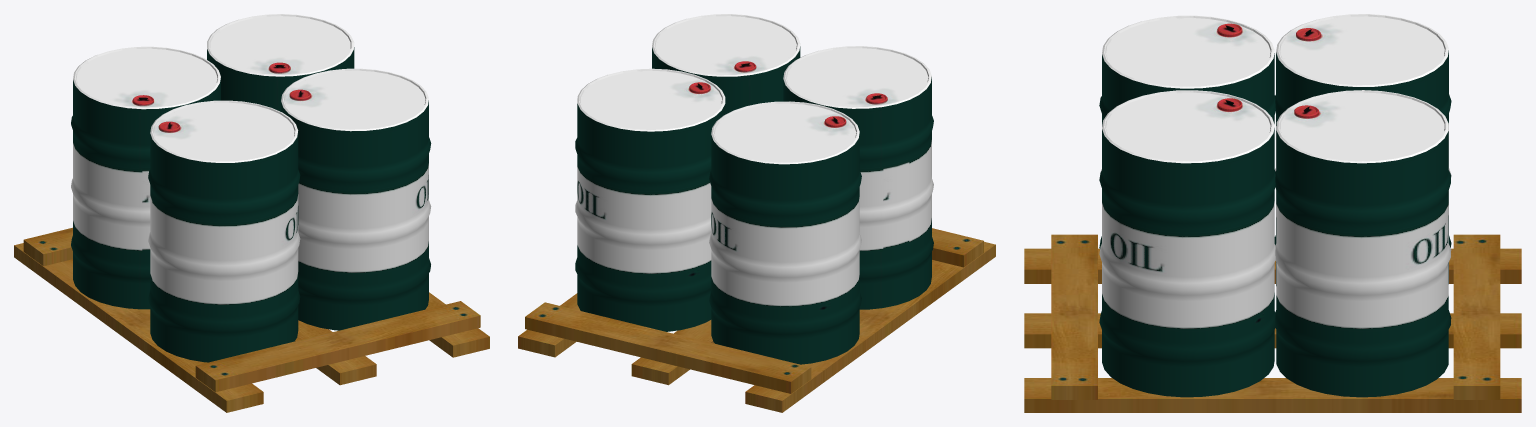
Rendered from Drums.glb.
The picture shows the model from 3 angles, left to right: view 1: azimuth 30°, elevation 25°; view 2: azimuth 150°, elevation 25°; view 3: azimuth 270°, elevation 25°; orthographic projection. The views are drawn at different scales.
Parts seen in each view (by area): view 1: Cylinder004, Cylinder003, Cylinder001, Cylinder002, Box004, Box003, Box002, Box006, Box001; view 2: Cylinder001, Cylinder002, Cylinder004, Cylinder003, Box006, Box003, Box002, Box004, Box001; view 3: Cylinder002, Cylinder003, Cylinder001, Cylinder004, Box001, Box006, Box004, Box002, Box003.
Part boxes in pixels (x1,y1,x2,y2): Cylinder004: (148,100,300,362); Cylinder003: (281,68,431,330); Cylinder001: (71,46,220,309); Cylinder002: (207,14,354,111); Box004: (195,301,480,392); Box003: (14,243,263,412); Box002: (295,320,376,385); Box006: (23,227,72,266); Box001: (425,292,489,357); Cylinder001: (709,101,861,364); Cylinder002: (575,68,725,331); Cylinder004: (783,46,933,309); Cylinder003: (652,14,800,114); Box006: (525,302,811,393); Box003: (745,241,995,412); Box002: (631,320,714,385); Box004: (932,228,983,267); Box001: (518,293,580,357); Cylinder002: (1275,90,1451,397); Cylinder003: (1099,90,1275,397); Cylinder001: (1275,14,1451,285); Cylinder004: (1099,15,1275,248); Box001: (1024,378,1521,412); Box006: (1453,234,1500,399); Box004: (1051,234,1097,399); Box002: (1024,313,1521,348); Box003: (1024,248,1521,283).
Size of the model in its own units: 70.47 by 54.77 by 97.39.
Materials: 1 (1 with a texture image).
